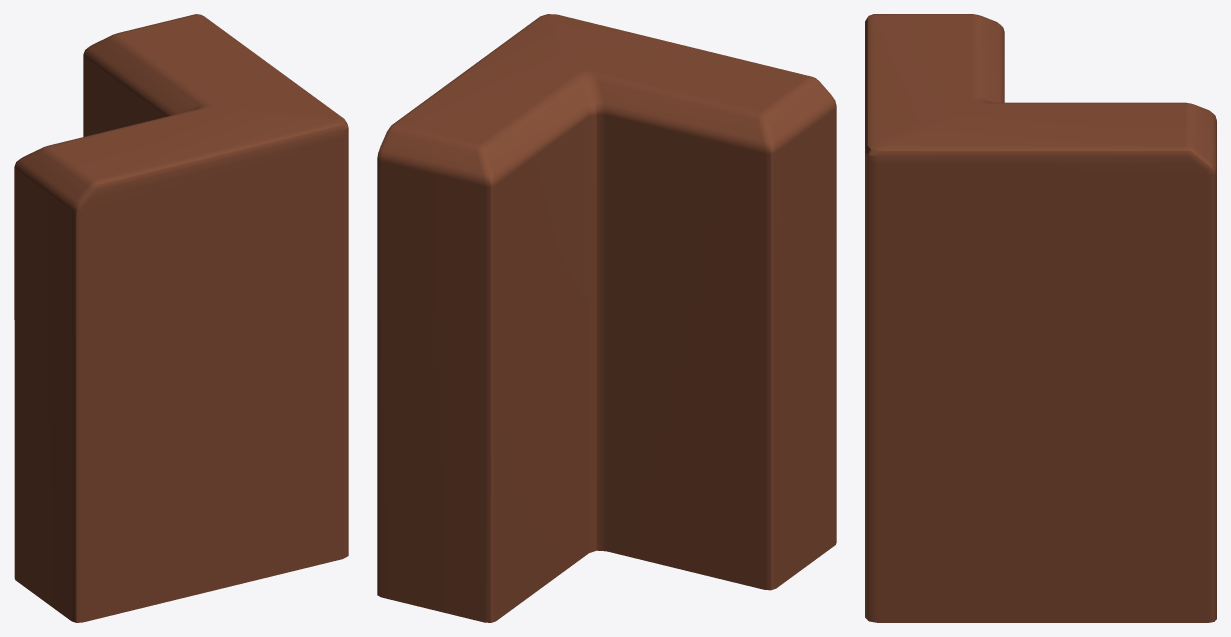
The model's file is Wall_04.fbx.
3 views of the same model, side by side, from view 1: azimuth 30°, elevation 25°; view 2: azimuth 150°, elevation 25°; view 3: azimuth 270°, elevation 25° (orthographic). The views are drawn at different scales.
Visible parts, largest first — view 1: Wall; view 2: Wall; view 3: Wall.
Part boxes in pixels (box(x1,y1,x2,y2)): Wall: box(14, 14, 348, 622); Wall: box(377, 14, 836, 622); Wall: box(865, 14, 1216, 622).
Bounding box in the file's own units: 1 × 1.5 × 1.01.
